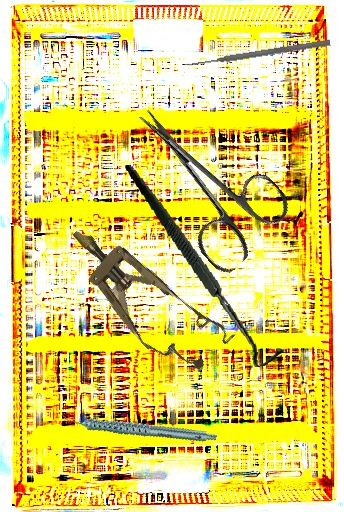Handpiece: (59, 382, 218, 473)
Hook Surgical: (124, 149, 286, 380)
Iris Scissors: (105, 80, 299, 279)
Pusher: (186, 37, 331, 70)
Speculum: (50, 206, 237, 387)
